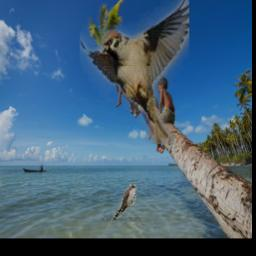Cuckoo: (113, 185, 137, 223)
Sparrow: (80, 0, 189, 145)
